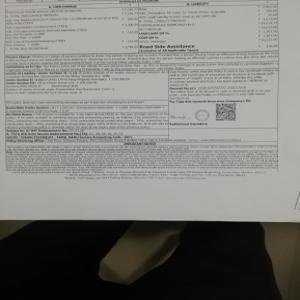table: (4, 2, 279, 52)
